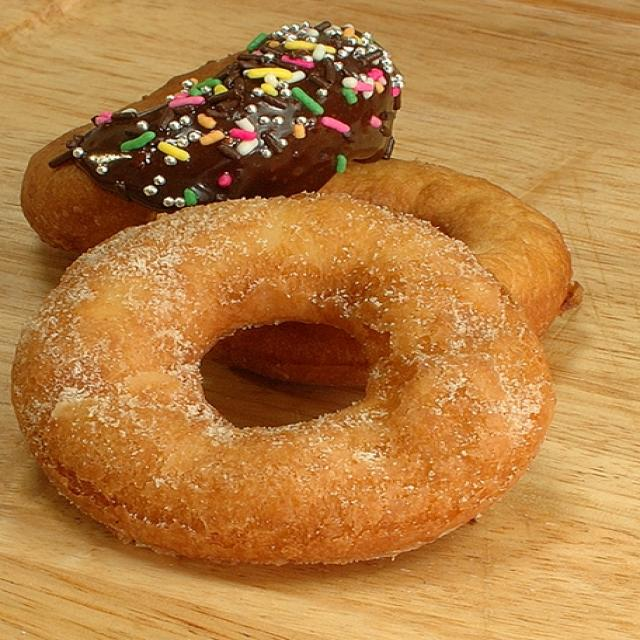炸货点心: (20, 40, 612, 605)
